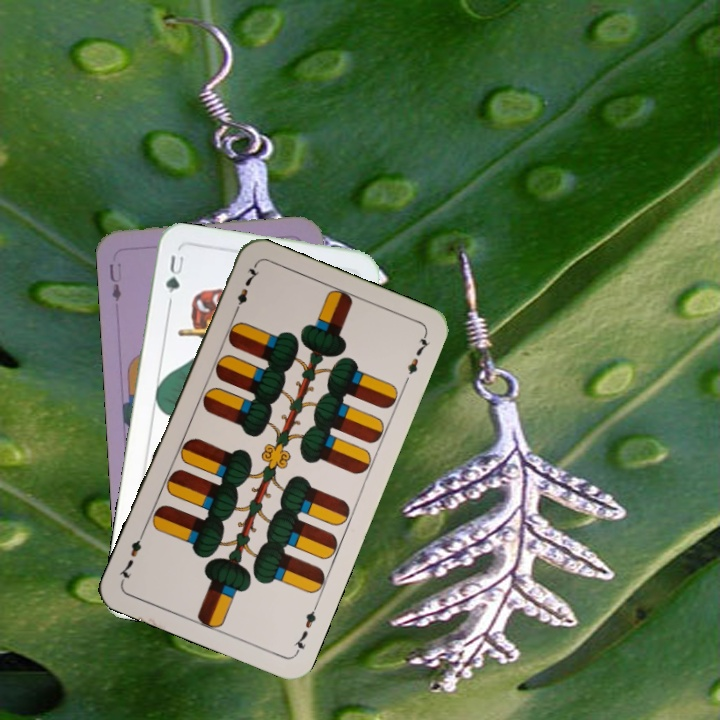E7: (229, 261, 262, 318), (290, 600, 321, 656)
EU: (105, 259, 124, 304)
GU: (161, 251, 187, 296)
